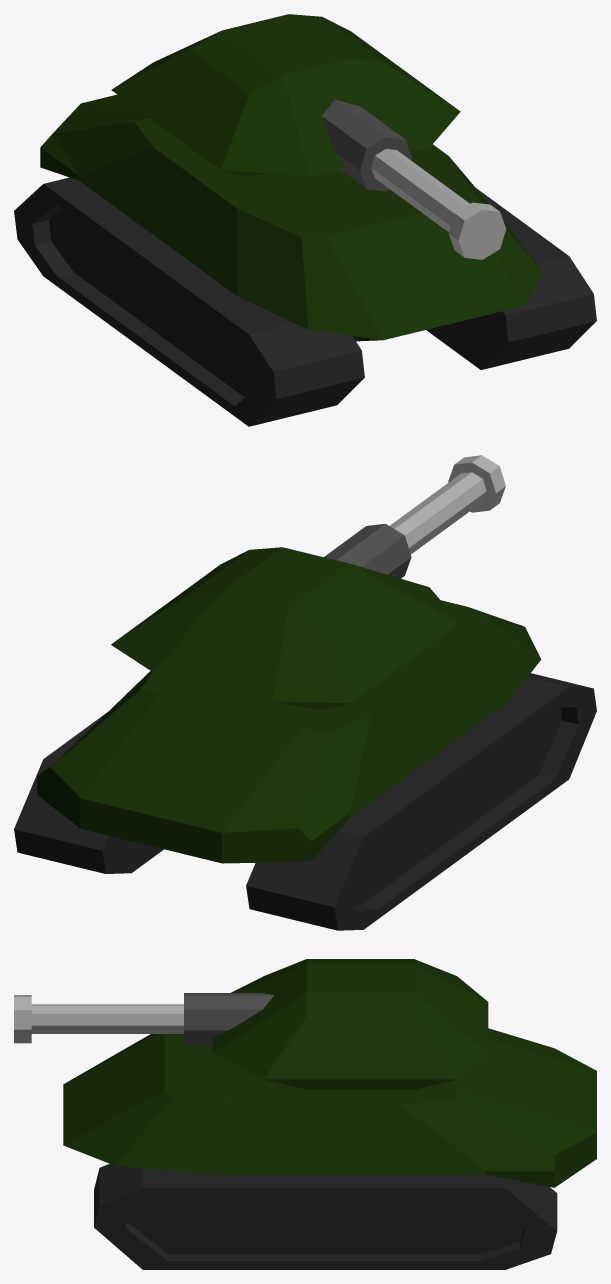
File: tank.glb
The picture shows the model from 3 angles, top to bottom: view 1: azimuth 30°, elevation 25°; view 2: azimuth 150°, elevation 25°; view 3: azimuth 270°, elevation 25°; orthographic projection. The views are drawn at different scales.
Visible parts, largest first — view 1: body, headCannonBarrel, treadR, treadL; view 2: body, headCannonBarrel, treadR, treadL; view 3: body, treadL, headCannonBarrel.
Part boxes in pixels (box(x1,y1,x2,y2)): body: box(40, 94, 543, 341); headCannonBarrel: box(111, 14, 506, 259); treadR: box(14, 177, 364, 426); treadL: box(426, 188, 596, 369); body: box(37, 600, 541, 863); headCannonBarrel: box(111, 455, 505, 710); treadR: box(246, 673, 596, 930); treadL: box(14, 713, 163, 873); body: box(63, 1028, 596, 1187); treadL: box(94, 1163, 557, 1269); headCannonBarrel: box(14, 959, 488, 1089).
Size of the model in its own units: 0.9793 by 0.7383 by 1.75.
